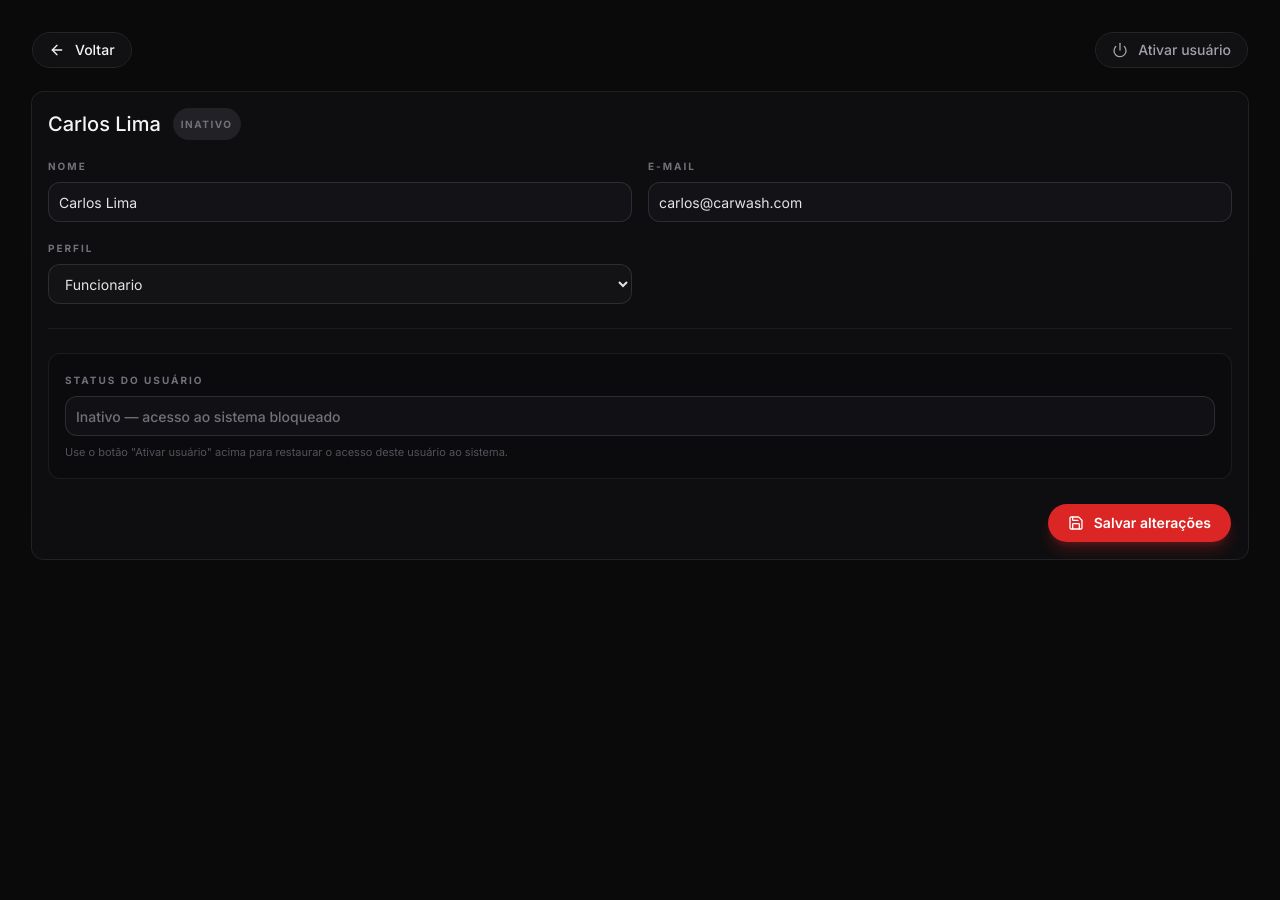
UsuarioDetalhePage (RF014) — toggle de status › 13b. ativar (usuário inativo) mostra mensagem de ativado
Expected: the field showing "Carlos Lima" is shown, [48, 182, 632, 222]
Expected: the text "INATIVO" is shown, [173, 108, 241, 140]
Click the button "Ativar usuário" at (1172, 50), box [1095, 32, 1248, 68]
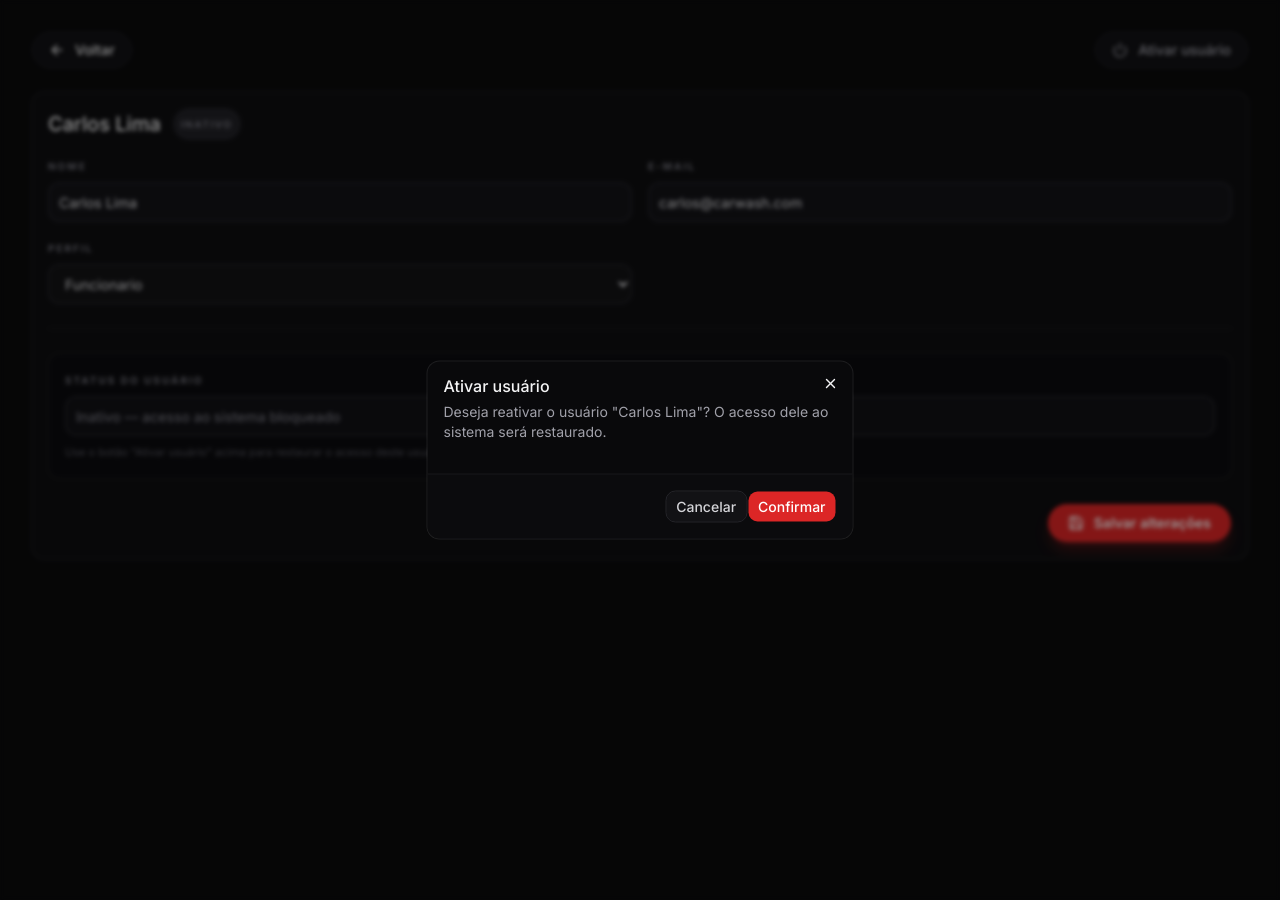
Now the dialog is shown, box [428, 362, 852, 538]
Click the button "Confirmar" at (792, 506), box [747, 490, 836, 522]
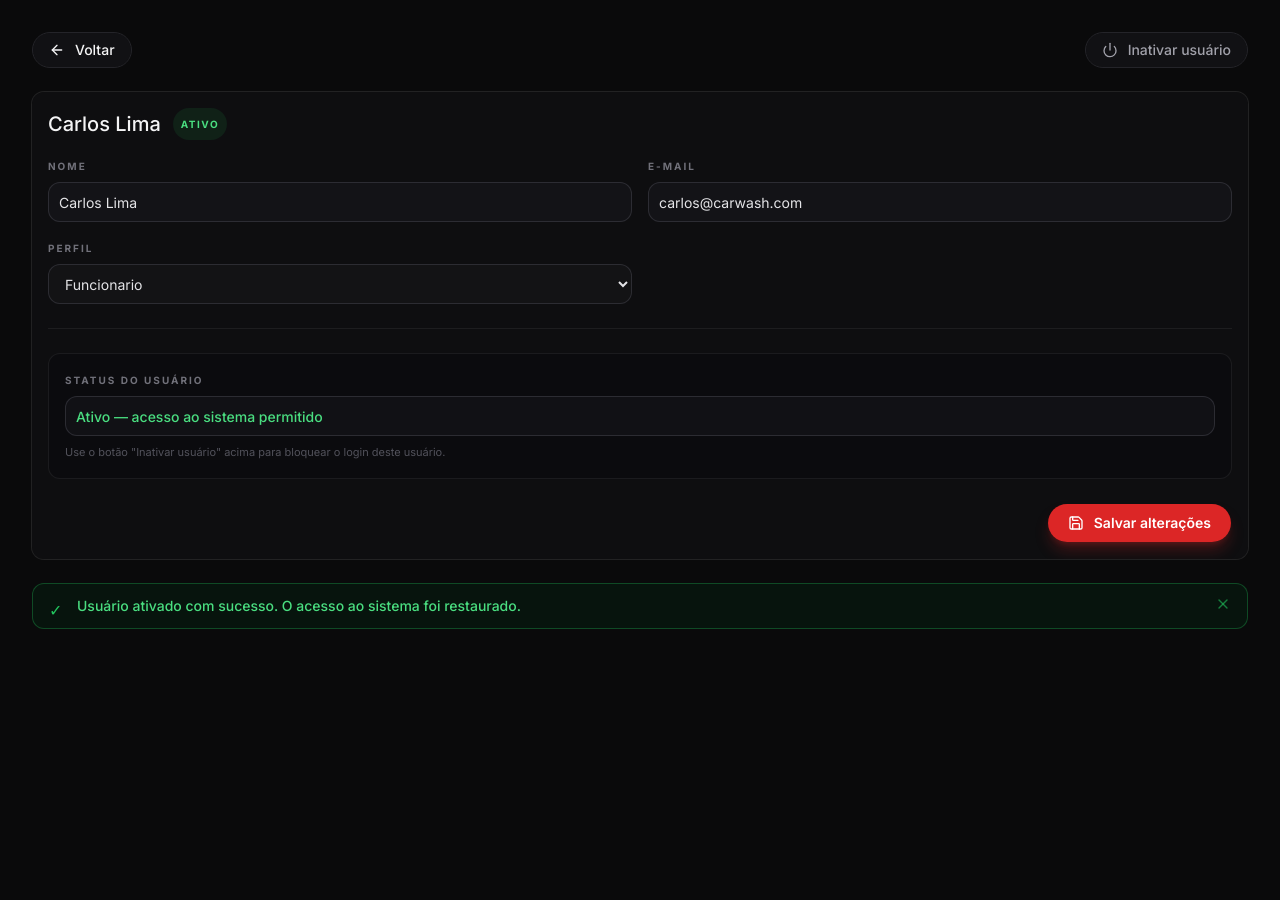
Now the message shows "Usuário ativado com sucesso. O acesso ao sistema foi restaurado.", box [77, 597, 521, 614]
